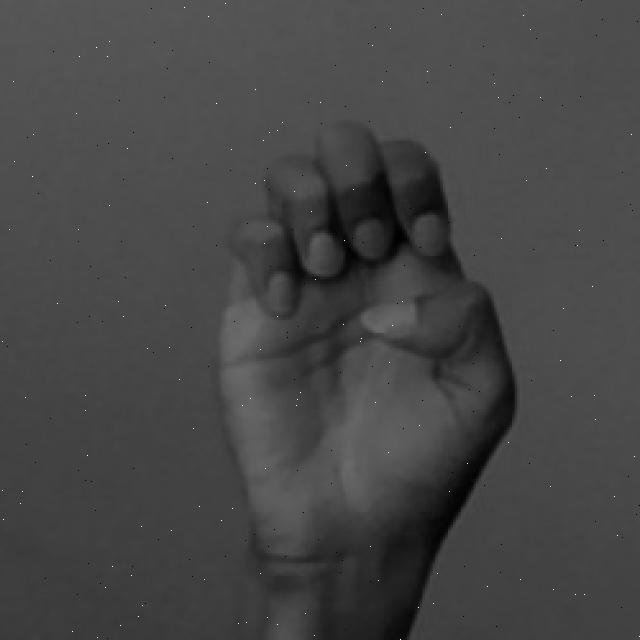E: (215, 112, 517, 640)
